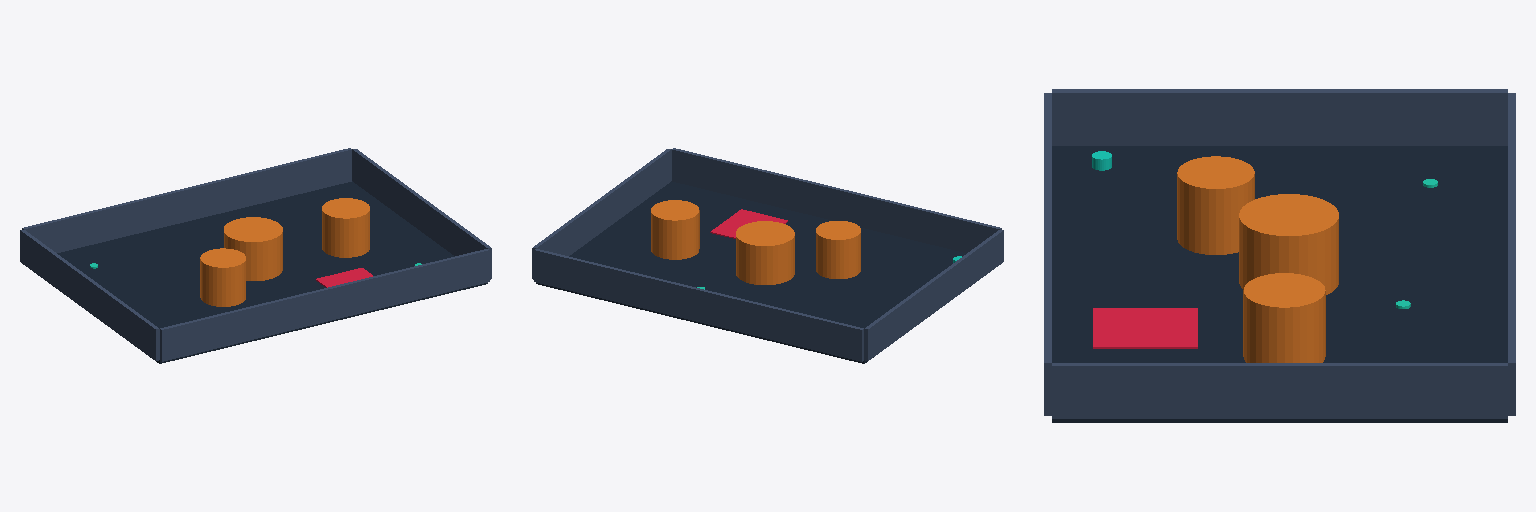
robot.urdf — veab_hospital-inspection:
<?xml version='1.0' encoding='utf-8'?>
<robot name="veab_hospital-inspection"><link name="world" /><link name="factory-floor"><visual><origin xyz="0 0 0" rpy="0 0 0" /><geometry><box size="14 10 0.15" /></geometry><material name="mat_factory-floor"><color rgba="0.16 0.21 0.27 1" /></material></visual><collision><origin xyz="0 0 0" rpy="0 0 0" /><geometry><box size="14 10 0.15" /></geometry></collision><inertial><origin xyz="0 0 0" rpy="0 0 0" /><mass value="1.0" /><inertia ixx="0.12" iyy="0.12" izz="0.12" ixy="0" ixz="0" iyz="0" /></inertial></link><joint name="anchor_factory-floor" type="fixed"><parent link="world" /><child link="factory-floor" /><origin xyz="7 5 -0.075" rpy="0 0 0" /></joint><link name="west-boundary"><visual><origin xyz="0 0 0" rpy="0 0 0" /><geometry><box size="0.16 10 1.3" /></geometry><material name="mat_west-boundary"><color rgba="0.3 0.36 0.46 0.68" /></material></visual><collision><origin xyz="0 0 0" rpy="0 0 0" /><geometry><box size="0.16 10 1.3" /></geometry></collision><inertial><origin xyz="0 0 0" rpy="0 0 0" /><mass value="1.0" /><inertia ixx="0.12" iyy="0.12" izz="0.12" ixy="0" ixz="0" iyz="0" /></inertial></link><joint name="anchor_west-boundary" type="fixed"><parent link="world" /><child link="west-boundary" /><origin xyz="-0.08 5 0.65" rpy="0 0 0" /></joint><link name="east-boundary"><visual><origin xyz="0 0 0" rpy="0 0 0" /><geometry><box size="0.16 10 1.3" /></geometry><material name="mat_east-boundary"><color rgba="0.3 0.36 0.46 0.68" /></material></visual><collision><origin xyz="0 0 0" rpy="0 0 0" /><geometry><box size="0.16 10 1.3" /></geometry></collision><inertial><origin xyz="0 0 0" rpy="0 0 0" /><mass value="1.0" /><inertia ixx="0.12" iyy="0.12" izz="0.12" ixy="0" ixz="0" iyz="0" /></inertial></link><joint name="anchor_east-boundary" type="fixed"><parent link="world" /><child link="east-boundary" /><origin xyz="14.08 5 0.65" rpy="0 0 0" /></joint><link name="south-boundary"><visual><origin xyz="0 0 0" rpy="0 0 0" /><geometry><box size="14 0.16 1.3" /></geometry><material name="mat_south-boundary"><color rgba="0.3 0.36 0.46 0.68" /></material></visual><collision><origin xyz="0 0 0" rpy="0 0 0" /><geometry><box size="14 0.16 1.3" /></geometry></collision><inertial><origin xyz="0 0 0" rpy="0 0 0" /><mass value="1.0" /><inertia ixx="0.12" iyy="0.12" izz="0.12" ixy="0" ixz="0" iyz="0" /></inertial></link><joint name="anchor_south-boundary" type="fixed"><parent link="world" /><child link="south-boundary" /><origin xyz="7 -0.08 0.65" rpy="0 0 0" /></joint><link name="north-boundary"><visual><origin xyz="0 0 0" rpy="0 0 0" /><geometry><box size="14 0.16 1.3" /></geometry><material name="mat_north-boundary"><color rgba="0.3 0.36 0.46 0.68" /></material></visual><collision><origin xyz="0 0 0" rpy="0 0 0" /><geometry><box size="14 0.16 1.3" /></geometry></collision><inertial><origin xyz="0 0 0" rpy="0 0 0" /><mass value="1.0" /><inertia ixx="0.12" iyy="0.12" izz="0.12" ixy="0" ixz="0" iyz="0" /></inertial></link><joint name="anchor_north-boundary" type="fixed"><parent link="world" /><child link="north-boundary" /><origin xyz="7 10.08 0.65" rpy="0 0 0" /></joint><link name="equipment-cart"><visual><origin xyz="0 0 0" rpy="0 0 0" /><geometry><cylinder radius="0.85" length="1.6" /></geometry><material name="mat_equipment-cart"><color rgba="0.9 0.52 0.2 1" /></material></visual><collision><origin xyz="0 0 0" rpy="0 0 0" /><geometry><cylinder radius="0.85" length="1.6" /></geometry></collision><inertial><origin xyz="0 0 0" rpy="0 0 0" /><mass value="1.0" /><inertia ixx="0.12" iyy="0.12" izz="0.12" ixy="0" ixz="0" iyz="0" /></inertial></link><joint name="anchor_equipment-cart" type="fixed"><parent link="world" /><child link="equipment-cart" /><origin xyz="4.8 3.6 0.8" rpy="0 0 0" /></joint><link name="nurse-station"><visual><origin xyz="0 0 0" rpy="0 0 0" /><geometry><cylinder radius="1.1" length="1.6" /></geometry><material name="mat_nurse-station"><color rgba="0.9 0.52 0.2 1" /></material></visual><collision><origin xyz="0 0 0" rpy="0 0 0" /><geometry><cylinder radius="1.1" length="1.6" /></geometry></collision><inertial><origin xyz="0 0 0" rpy="0 0 0" /><mass value="1.0" /><inertia ixx="0.12" iyy="0.12" izz="0.12" ixy="0" ixz="0" iyz="0" /></inertial></link><joint name="anchor_nurse-station" type="fixed"><parent link="world" /><child link="nurse-station" /><origin xyz="7 5.2 0.8" rpy="0 0 0" /></joint><link name="medical-trolley"><visual><origin xyz="0 0 0" rpy="0 0 0" /><geometry><cylinder radius="0.9" length="1.6" /></geometry><material name="mat_medical-trolley"><color rgba="0.9 0.52 0.2 1" /></material></visual><collision><origin xyz="0 0 0" rpy="0 0 0" /><geometry><cylinder radius="0.9" length="1.6" /></geometry></collision><inertial><origin xyz="0 0 0" rpy="0 0 0" /><mass value="1.0" /><inertia ixx="0.12" iyy="0.12" izz="0.12" ixy="0" ixz="0" iyz="0" /></inertial></link><joint name="anchor_medical-trolley" type="fixed"><parent link="world" /><child link="medical-trolley" /><origin xyz="10.9 5.1 0.8" rpy="0 0 0" /></joint><link name="sterile-boundary"><visual><origin xyz="0 0 0" rpy="0 0 0" /><geometry><box size="2 2.3 0.05" /></geometry><material name="mat_sterile-boundary"><color rgba="0.9 0.18 0.32 0.25" /></material></visual><inertial><origin xyz="0 0 0" rpy="0 0 0" /><mass value="1.0" /><inertia ixx="0.12" iyy="0.12" izz="0.12" ixy="0" ixz="0" iyz="0" /></inertial></link><joint name="anchor_sterile-boundary" type="fixed"><parent link="world" /><child link="sterile-boundary" /><origin xyz="9.5 2.05 0.025" rpy="0 0 0" /></joint><link name="checkpoint-1-ward-entrance"><visual><origin xyz="0 0 0" rpy="0 0 0" /><geometry><cylinder radius="0.16" length="0.07" /></geometry><material name="mat_checkpoint-1-ward-entrance"><color rgba="0.16 0.83 0.71 0.8" /></material></visual><inertial><origin xyz="0 0 0" rpy="0 0 0" /><mass value="1.0" /><inertia ixx="0.12" iyy="0.12" izz="0.12" ixy="0" ixz="0" iyz="0" /></inertial></link><joint name="anchor_checkpoint-1-ward-entrance" type="fixed"><parent link="world" /><child link="checkpoint-1-ward-entrance" /><origin xyz="2 8.3 0.035" rpy="0 0 0" /></joint><link name="checkpoint-2-maintenance-cabinet"><visual><origin xyz="0 0 0" rpy="0 0 0" /><geometry><cylinder radius="0.16" length="0.07" /></geometry><material name="mat_checkpoint-2-maintenance-cabinet"><color rgba="0.16 0.83 0.71 0.8" /></material></visual><inertial><origin xyz="0 0 0" rpy="0 0 0" /><mass value="1.0" /><inertia ixx="0.12" iyy="0.12" izz="0.12" ixy="0" ixz="0" iyz="0" /></inertial></link><joint name="anchor_checkpoint-2-maintenance-cabinet" type="fixed"><parent link="world" /><child link="checkpoint-2-maintenance-cabinet" /><origin xyz="8.3 7.7 0.035" rpy="0 0 0" /></joint><link name="checkpoint-3-return-checkpoint"><visual><origin xyz="0 0 0" rpy="0 0 0" /><geometry><cylinder radius="0.16" length="0.07" /></geometry><material name="mat_checkpoint-3-return-checkpoint"><color rgba="0.16 0.83 0.71 0.8" /></material></visual><inertial><origin xyz="0 0 0" rpy="0 0 0" /><mass value="1.0" /><inertia ixx="0.12" iyy="0.12" izz="0.12" ixy="0" ixz="0" iyz="0" /></inertial></link><joint name="anchor_checkpoint-3-return-checkpoint" type="fixed"><parent link="world" /><child link="checkpoint-3-return-checkpoint" /><origin xyz="12.4 2.3 0.035" rpy="0 0 0" /></joint><link name="robot"><visual><origin xyz="0 0 0" rpy="0 0 0" /><geometry><cylinder radius="0.22" length="0.27" /></geometry><material name="mat_robot"><color rgba="0.12 0.83 0.76 1" /></material></visual><collision><origin xyz="0 0 0" rpy="0 0 0" /><geometry><cylinder radius="0.22" length="0.27" /></geometry></collision><inertial><origin xyz="0 0 0" rpy="0 0 0" /><mass value="8.0" /><inertia ixx="0.12" iyy="0.12" izz="0.12" ixy="0" ixz="0" iyz="0" /></inertial></link><joint name="anchor_robot" type="fixed"><parent link="world" /><child link="robot" /><origin xyz="1.1 1.1 0.16" rpy="0 0 0" /></joint></robot>

--- What the picture shows (computed from the rendered views, not written in the file) ---
The picture shows the robot from 3 angles, left to right: view 1: azimuth 30°, elevation 25°; view 2: azimuth 150°, elevation 25°; view 3: azimuth 270°, elevation 25°; orthographic projection.
Robot: veab_hospital-inspection — 14 links, 13 joints (13 fixed); root link world; default pose: every joint at zero.
Visible links, largest first — view 1: factory-floor, south-boundary, north-boundary, west-boundary, east-boundary, nurse-station, medical-trolley, equipment-cart, sterile-boundary; view 2: factory-floor, north-boundary, south-boundary, west-boundary, east-boundary, nurse-station, medical-trolley, equipment-cart, sterile-boundary; view 3: factory-floor, west-boundary, east-boundary, nurse-station, medical-trolley, equipment-cart, sterile-boundary, south-boundary, north-boundary.
Link boxes in pixels (box(x1,y1,x2,y2)): factory-floor: box(53, 181, 487, 363); south-boundary: box(160, 249, 489, 361); north-boundary: box(22, 148, 351, 252); west-boundary: box(20, 230, 159, 360); east-boundary: box(352, 149, 491, 279); nurse-station: box(224, 217, 282, 280); medical-trolley: box(322, 198, 369, 257); equipment-cart: box(200, 248, 245, 306); sterile-boundary: box(316, 268, 372, 287); factory-floor: box(536, 181, 970, 363); north-boundary: box(534, 249, 863, 361); south-boundary: box(672, 148, 1001, 252); west-boundary: box(864, 230, 1003, 360); east-boundary: box(532, 149, 671, 279); nurse-station: box(736, 221, 794, 284); medical-trolley: box(651, 200, 699, 259); equipment-cart: box(816, 221, 860, 278); sterile-boundary: box(710, 209, 787, 238); factory-floor: box(1052, 146, 1507, 422); west-boundary: box(1052, 89, 1507, 145); east-boundary: box(1052, 363, 1507, 418); nurse-station: box(1239, 194, 1338, 294); medical-trolley: box(1243, 273, 1325, 362); equipment-cart: box(1177, 156, 1254, 254); sterile-boundary: box(1093, 308, 1197, 348); south-boundary: box(1044, 93, 1051, 415); north-boundary: box(1508, 93, 1515, 415).
Bounding box of the posed robot: 14.32 × 10.32 × 1.75 m (x, y, z).
Geometry: primitives only (box / cylinder / sphere), no mesh files.
